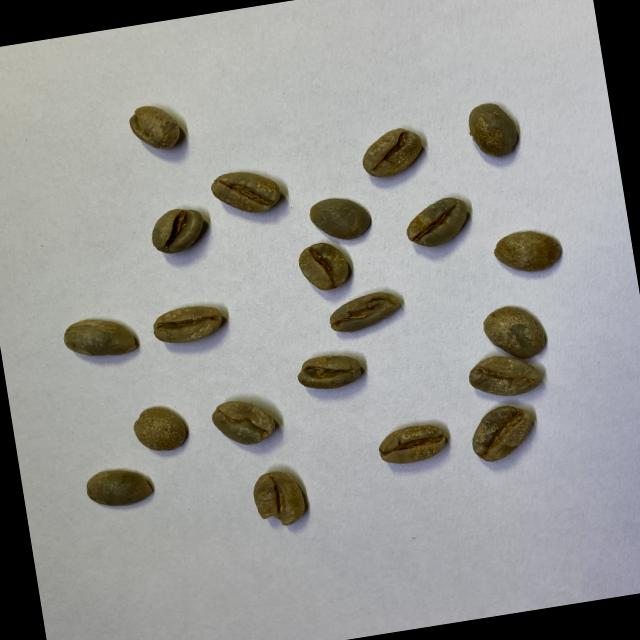bad: (466, 349, 546, 401), (209, 393, 278, 450), (325, 287, 404, 336), (248, 466, 308, 530), (126, 100, 184, 158)
good: (480, 298, 550, 364), (401, 194, 474, 252), (61, 310, 139, 364), (468, 402, 536, 463), (210, 165, 282, 222), (358, 125, 428, 182), (491, 222, 563, 276), (464, 99, 522, 162), (308, 193, 375, 246), (150, 301, 224, 348), (376, 419, 450, 466), (84, 462, 155, 510), (296, 238, 353, 294), (295, 349, 365, 394), (132, 401, 188, 455), (149, 206, 209, 256)
